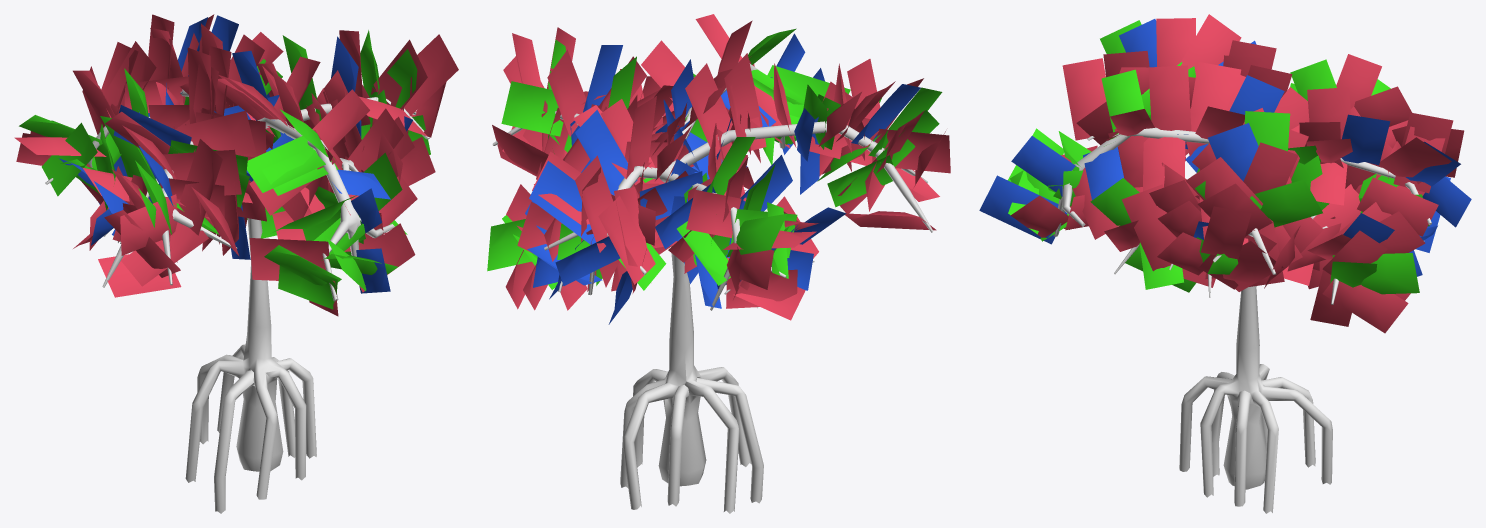
The model's file is swampBoom8.fbx.
The picture shows the model from 3 angles, left to right: view 1: azimuth 30°, elevation 25°; view 2: azimuth 150°, elevation 25°; view 3: azimuth 270°, elevation 25°; orthographic projection. The views are drawn at different scales.
Parts seen in each view (by area): view 1: SwampBoom3_LOD0; view 2: SwampBoom3_LOD0; view 3: SwampBoom3_LOD0.
Boxes of the visible parts, x1=… form: SwampBoom3_LOD0: x1=14, y1=14, x2=458, y2=513; SwampBoom3_LOD0: x1=487, y1=14, x2=950, y2=513; SwampBoom3_LOD0: x1=979, y1=14, x2=1471, y2=513.
Size of what is drawn, in the model's own units: 1694 by 1934 by 1984.
